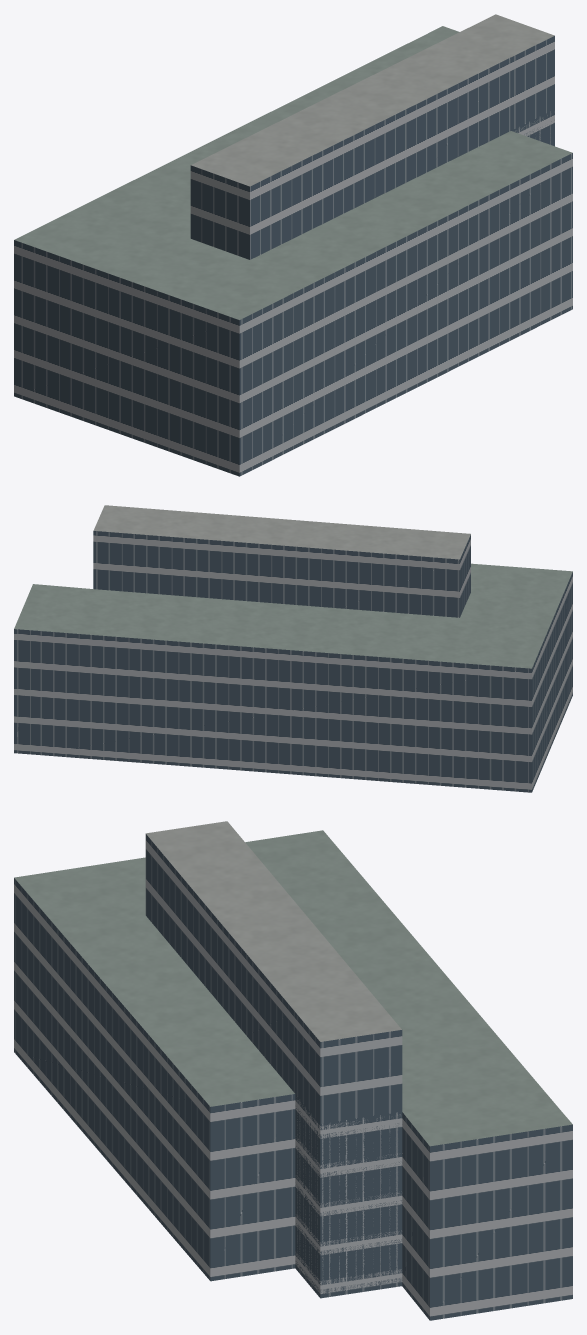
3 views of the same model, one above another, from view 1: azimuth 30°, elevation 25°; view 2: azimuth 150°, elevation 25°; view 3: azimuth 270°, elevation 25° (orthographic). The views are drawn at different scales.
Parts seen in each view (by area): view 1: hospital-geriatric; view 2: hospital-geriatric; view 3: hospital-geriatric.
Part boxes in pixels (x1,y1,x2,y2): hospital-geriatric: (14,14,572,476); hospital-geriatric: (14,505,572,792); hospital-geriatric: (14,821,572,1320).
Bounding box in the file's own units: 62.95 × 23.81 × 47.05.
Materials: 2 (2 with a texture image).
